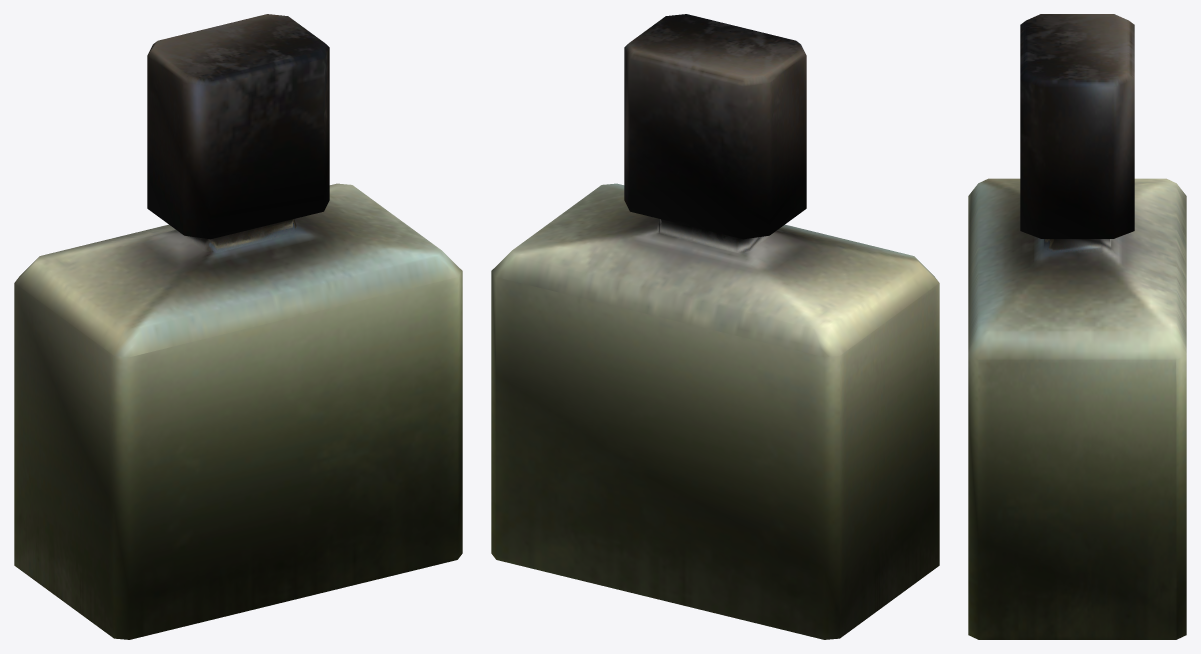
Rendered from GeneralStore_Bottle_05.obj.
The picture shows the model from 3 angles, left to right: view 1: azimuth 30°, elevation 25°; view 2: azimuth 150°, elevation 25°; view 3: azimuth 270°, elevation 25°; orthographic projection.
Parts seen in each view (by area): view 1: Model_GeneralStore_Bottle_05; view 2: Model_GeneralStore_Bottle_05; view 3: Model_GeneralStore_Bottle_05.
Part boxes in pixels (<box>): Model_GeneralStore_Bottle_05: <box>14,14,462,639</box>; Model_GeneralStore_Bottle_05: <box>491,14,939,639</box>; Model_GeneralStore_Bottle_05: <box>968,14,1186,639</box>.
Bounding box in the file's own units: 0.2013 × 0.2833 × 0.1103.
Materials: 1 (1 with a texture image).
